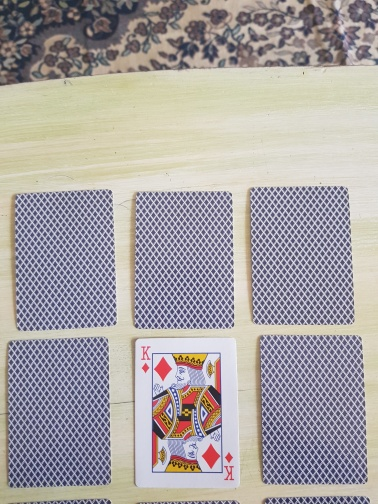king: (133, 336, 241, 489)
